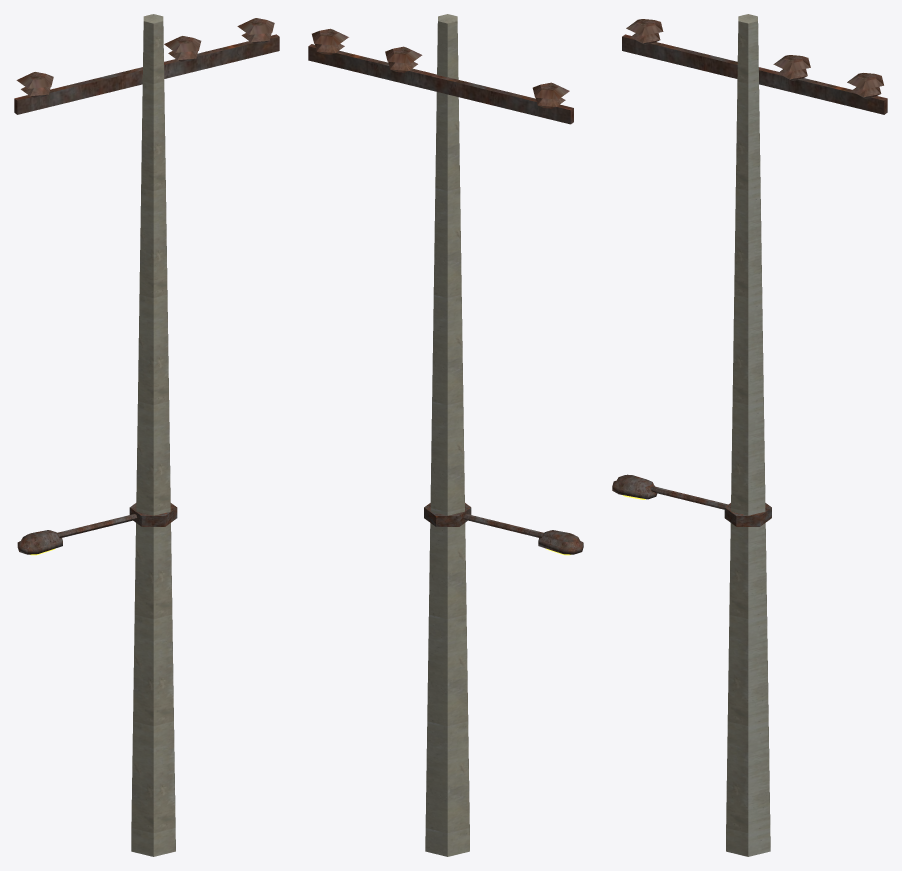
File: telepole.glb
3 renders of one model, left to right at view 1: azimuth 30°, elevation 25°; view 2: azimuth 150°, elevation 25°; view 3: azimuth 330°, elevation 25°, orthographic.
Visible parts, largest first — view 1: Cylinder.035, Cylinder.036; view 2: Cylinder.035, Cylinder.036; view 3: Cylinder.035, Cylinder.036.
Boxes of the visible parts, x1,y1,x2,y2 form: Cylinder.035: (14,14,279,856); Cylinder.036: (17,503,177,555); Cylinder.035: (308,14,573,856); Cylinder.036: (424,503,583,555); Cylinder.035: (622,14,887,856); Cylinder.036: (612,474,771,526).
Size of the model in its own units: 3.95 by 11.76 by 0.7433.
Materials: 3 (2 with a texture image).
